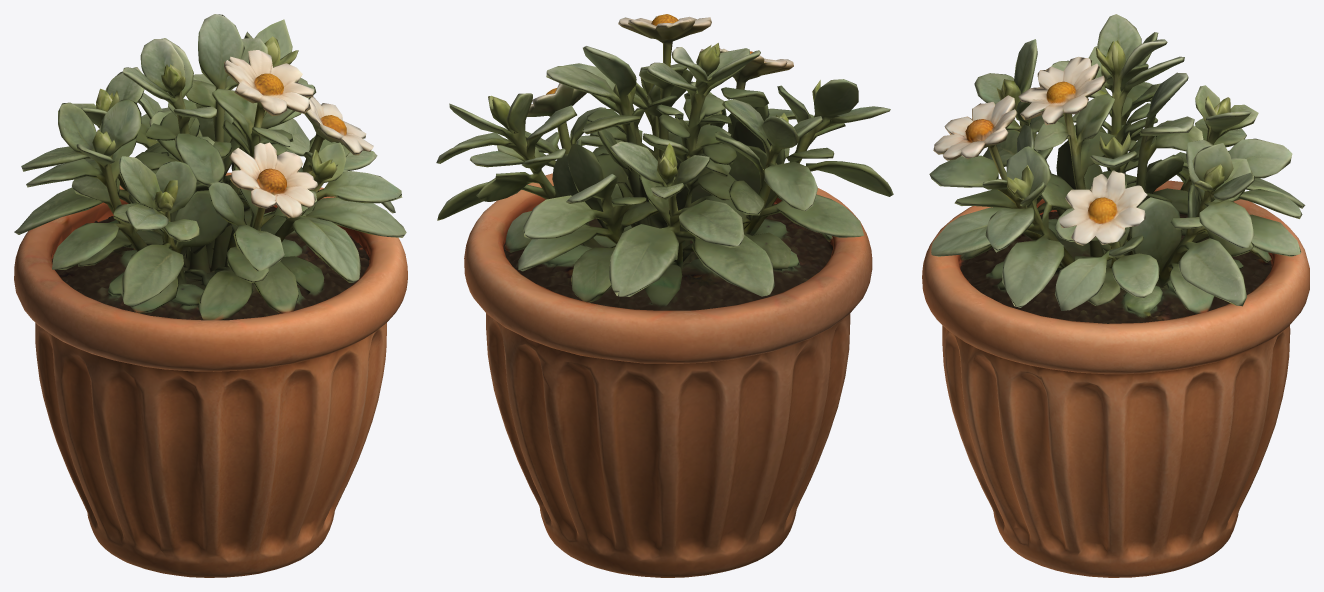
Rendered from tripo_convert_8c1236c2-e532-4f10-a02f-598da6a2b6ec.fbx.
The picture shows the model from 3 angles, left to right: view 1: azimuth 30°, elevation 25°; view 2: azimuth 150°, elevation 25°; view 3: azimuth 270°, elevation 25°; orthographic projection. The views are drawn at different scales.
Visible parts, largest first — view 1: tripo_node_8c1236c2; view 2: tripo_node_8c1236c2; view 3: tripo_node_8c1236c2.
Part boxes in pixels (x1,y1,x2,y2): tripo_node_8c1236c2: [14, 14, 407, 577]; tripo_node_8c1236c2: [436, 14, 893, 577]; tripo_node_8c1236c2: [922, 14, 1309, 577].
Bounding box in the file's own units: 0.743 × 0.9792 × 0.7192.
1 material, 1 textured.
